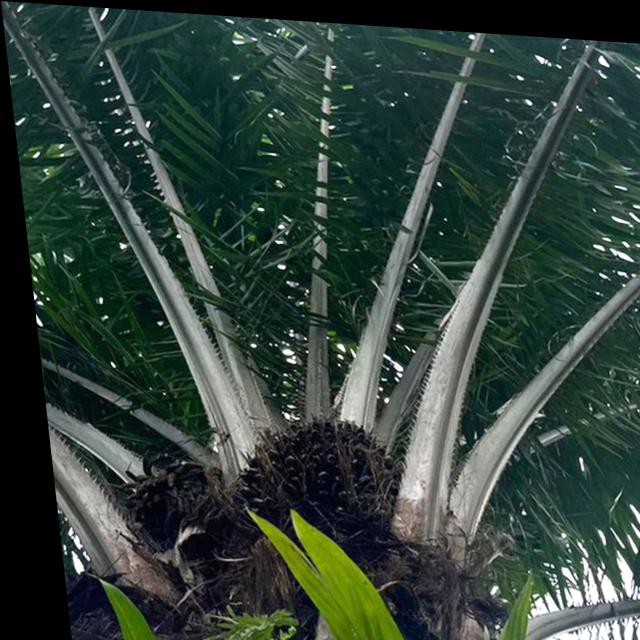almost: (201, 377, 406, 549)
